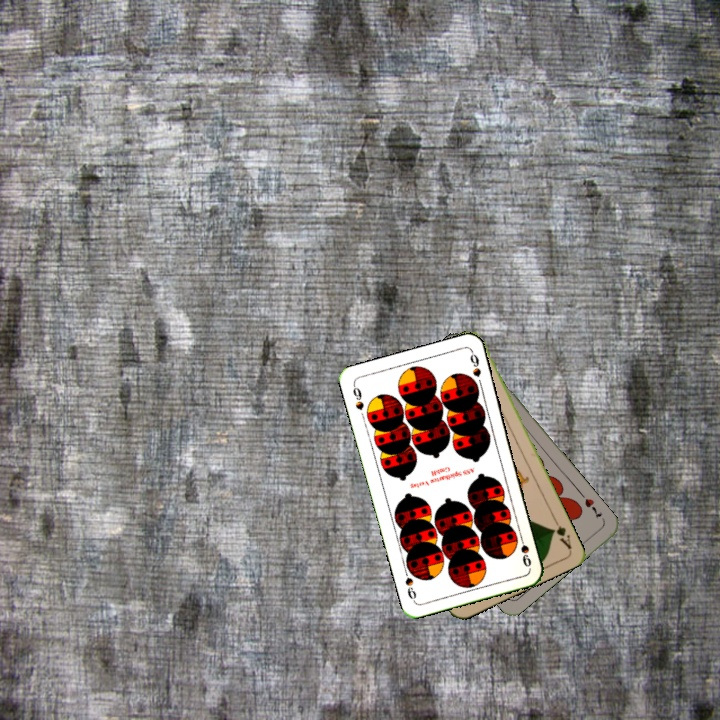GA: (548, 514, 574, 552)
H7: (581, 494, 605, 522)
S9: (515, 530, 534, 569), (349, 380, 366, 413)
